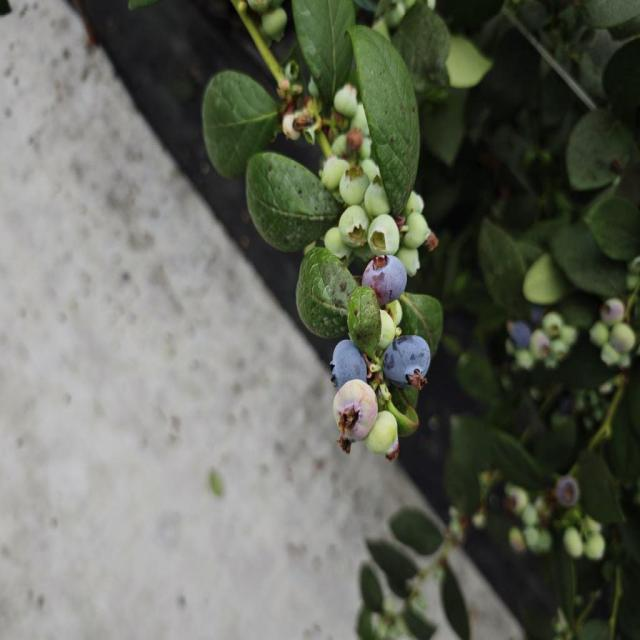RipeBlueBerry: (381, 326, 440, 398), (324, 338, 378, 396)
Semi-RipeBlueBerry: (360, 258, 411, 308)
UnripeBlueBerry: (332, 369, 381, 451), (337, 209, 370, 253), (369, 216, 400, 255)
